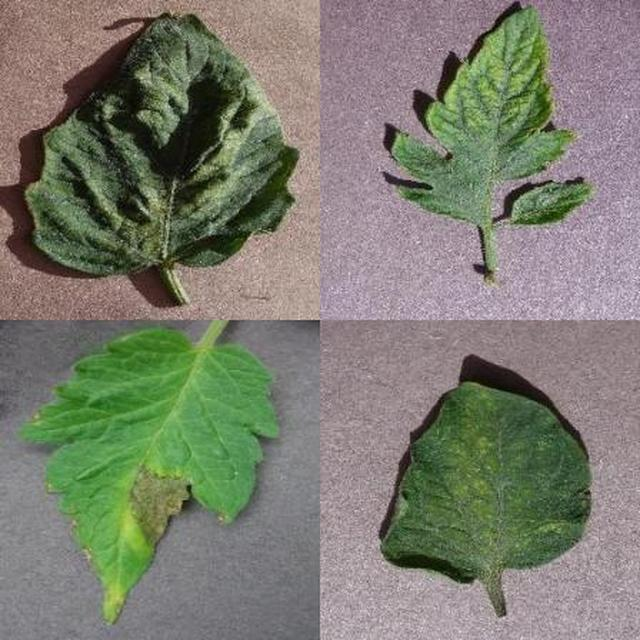Spider Mites Leaf: (213, 164, 640, 640)
